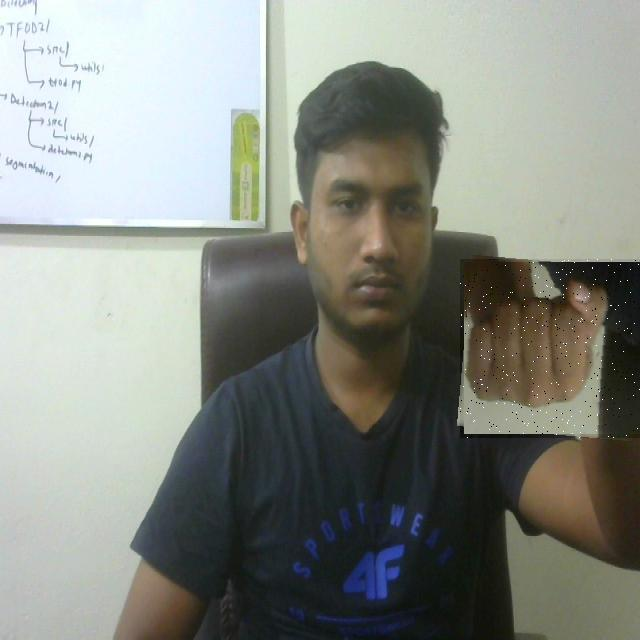Yes: (460, 259, 640, 438)
